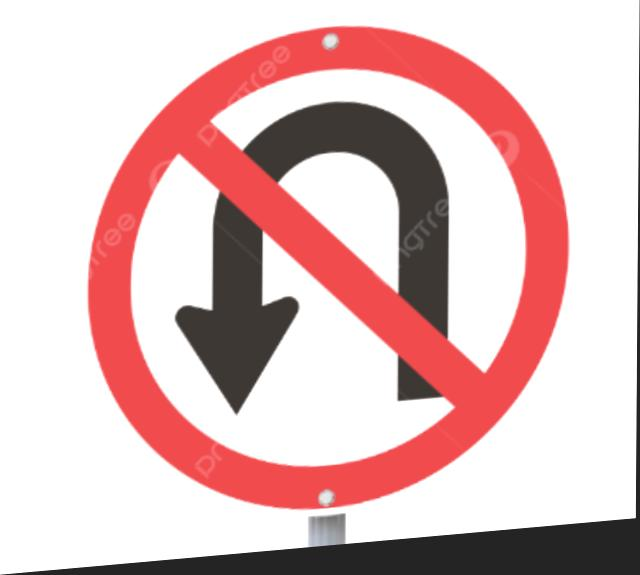not_u_turn_left: (82, 8, 579, 542)
